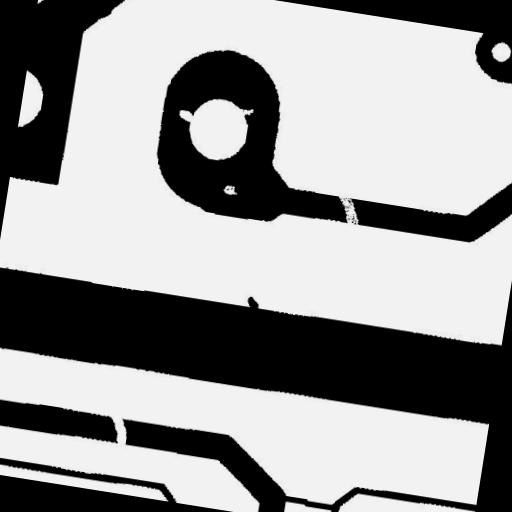mousebite: (169, 100, 202, 130), (230, 98, 262, 124)
open: (324, 183, 370, 234), (98, 404, 138, 454)
pin-hole: (213, 176, 246, 204)
short: (268, 485, 347, 512)
spur: (236, 286, 268, 320)
